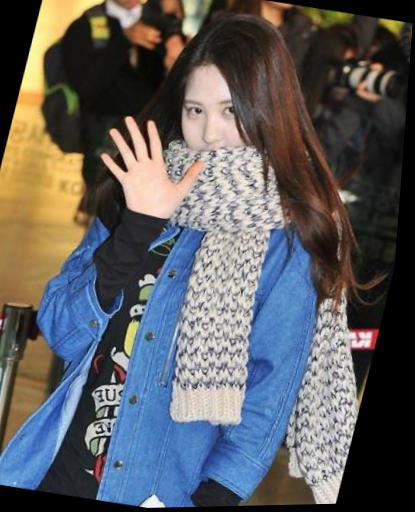WRONG: (159, 76, 266, 179)
